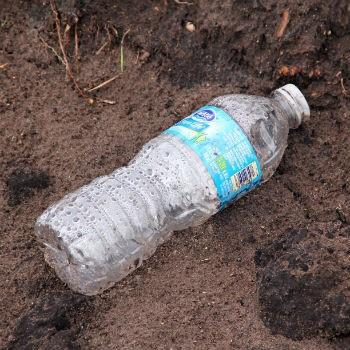plastic: (33, 82, 312, 297)
